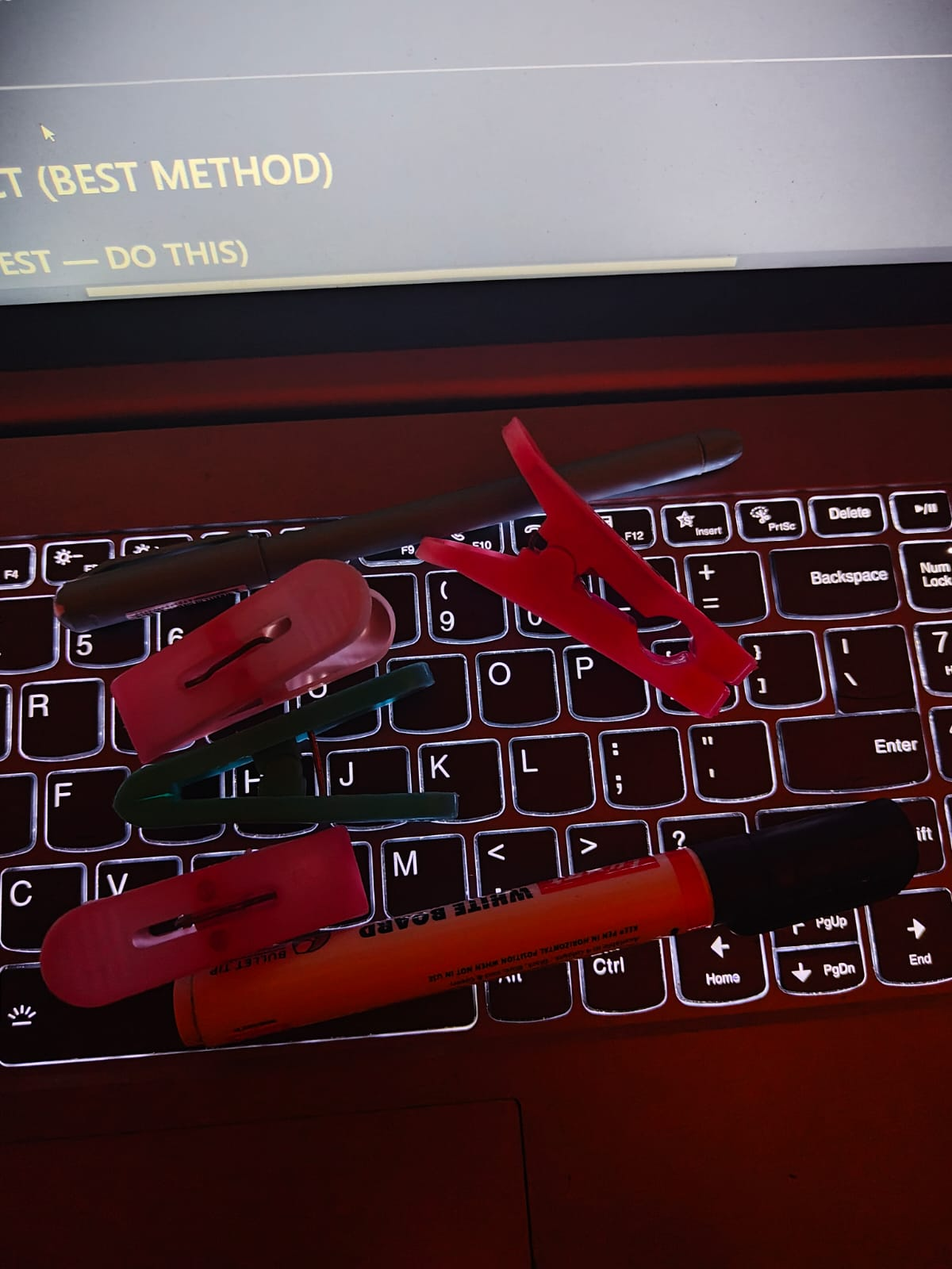case: (176, 786, 905, 1048)
pen: (37, 418, 765, 639)
